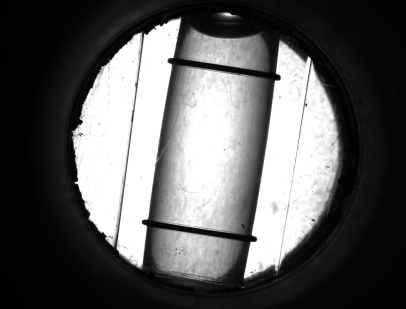line: (184, 55, 266, 82), (158, 219, 238, 243)
